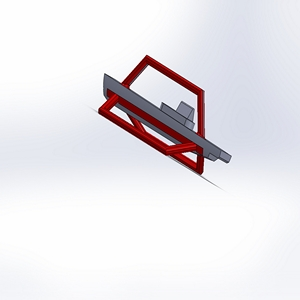submarine: (89, 47, 252, 183)
